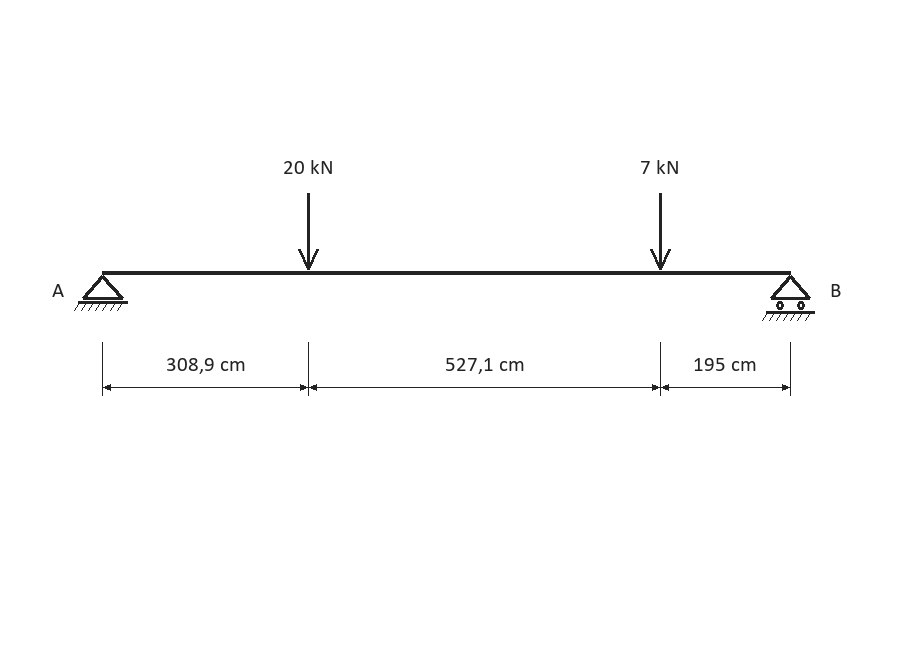pin_support: (74, 275, 128, 311)
point_load: (298, 193, 319, 270), (650, 193, 671, 270)
roller_support: (762, 275, 815, 321)
